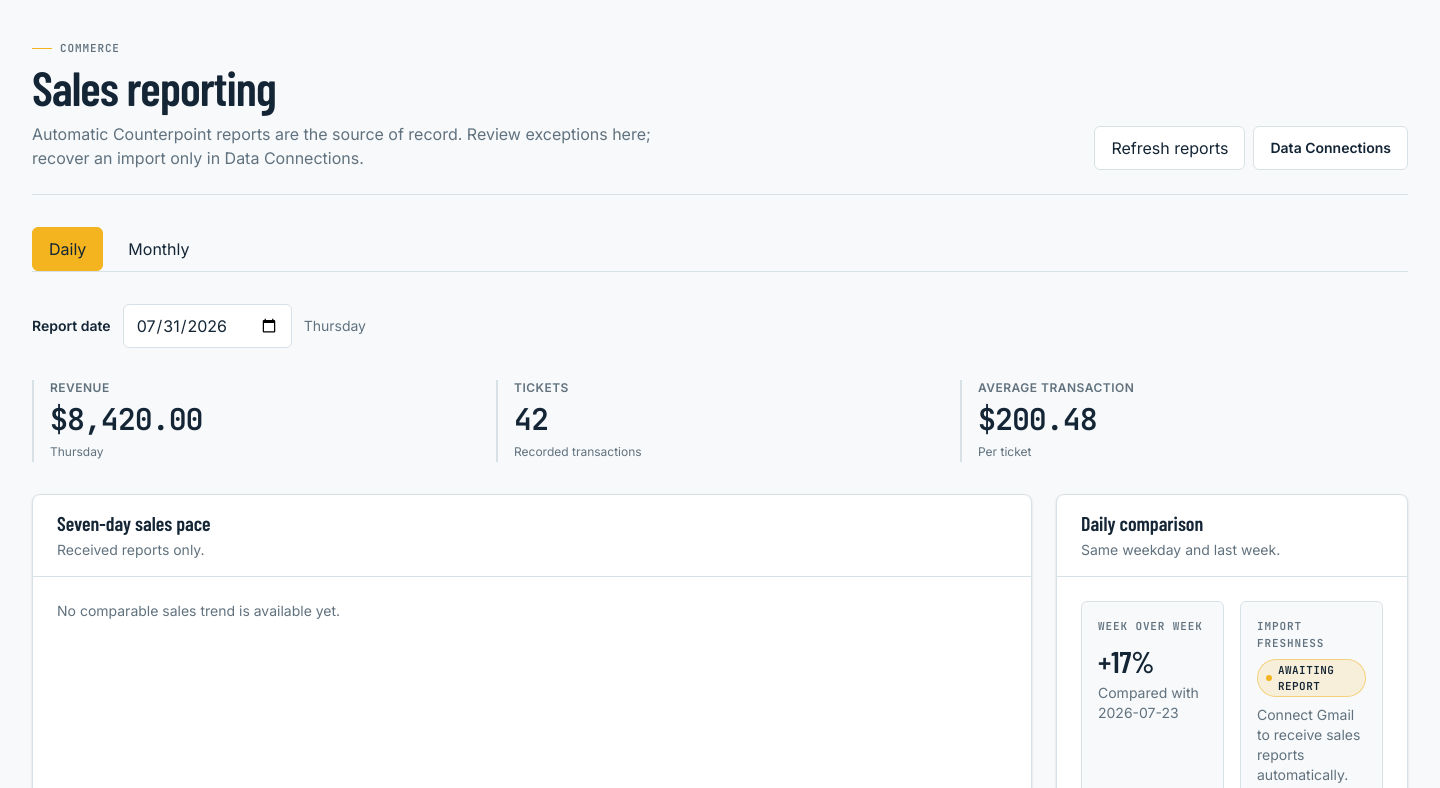
Test: SalesPage › retains a previous monthly drill-down when its refresh fails
Expected: the heading "Sales reporting" is shown, [32,58,276,116]
Expected: the text "$8,420.00" is shown, [50,399,203,439]
Click the button "Refresh reports" at (1170, 148), box [1094,126,1246,170]
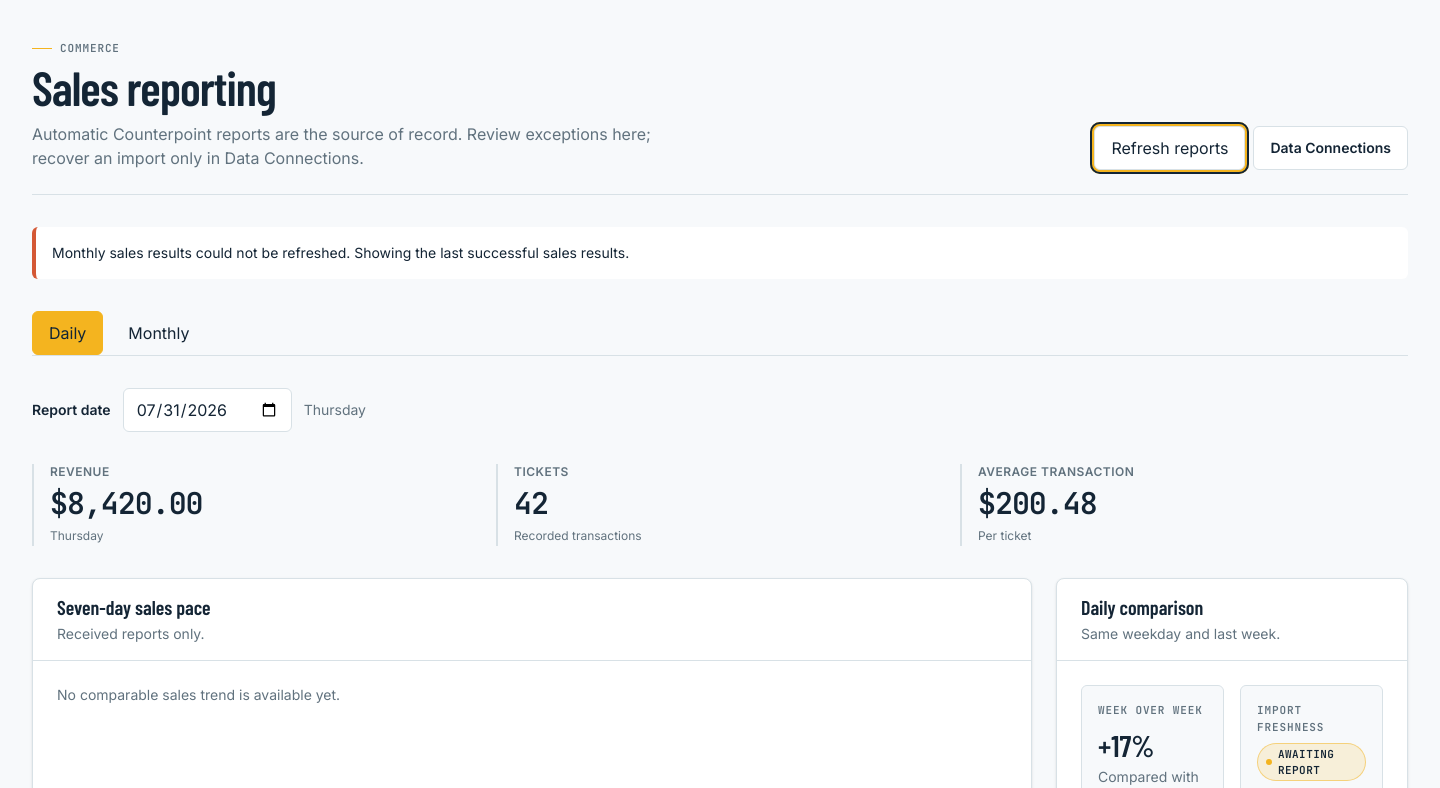
Expected: the message shows "Showing the last successful sales results", [350,244,629,261]
Click the tab "Monthly" at (159, 333), box [111,311,206,355]
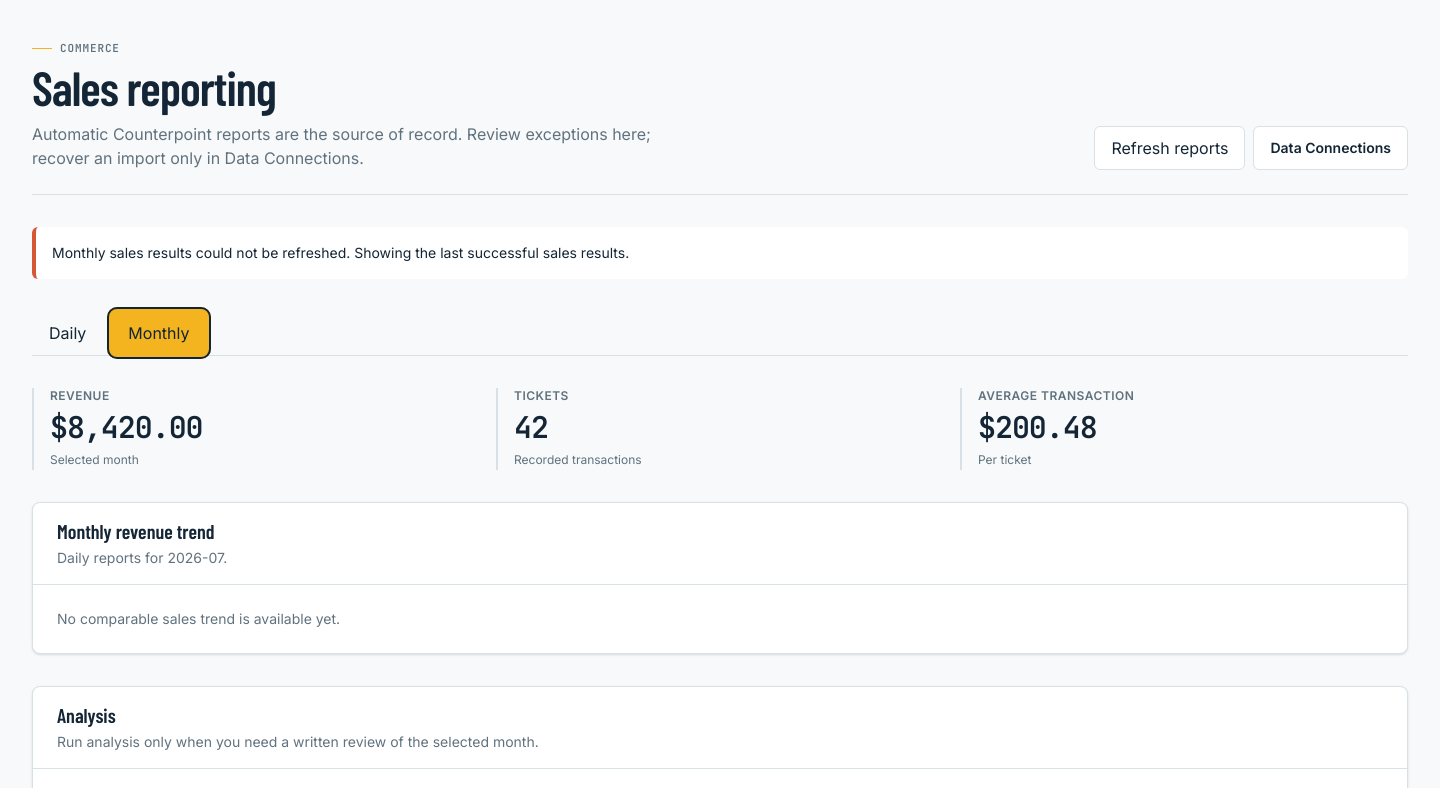
Expected: the heading "Monthly revenue trend" is shown, [57,519,227,544]
